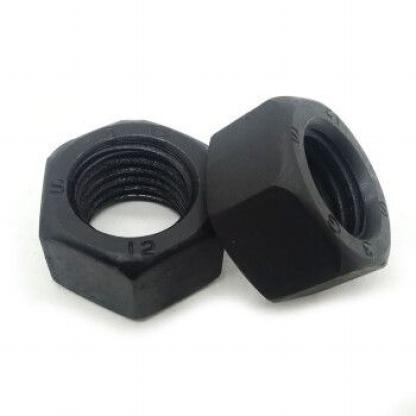FOD: (38, 116, 228, 327), (204, 93, 392, 305)
